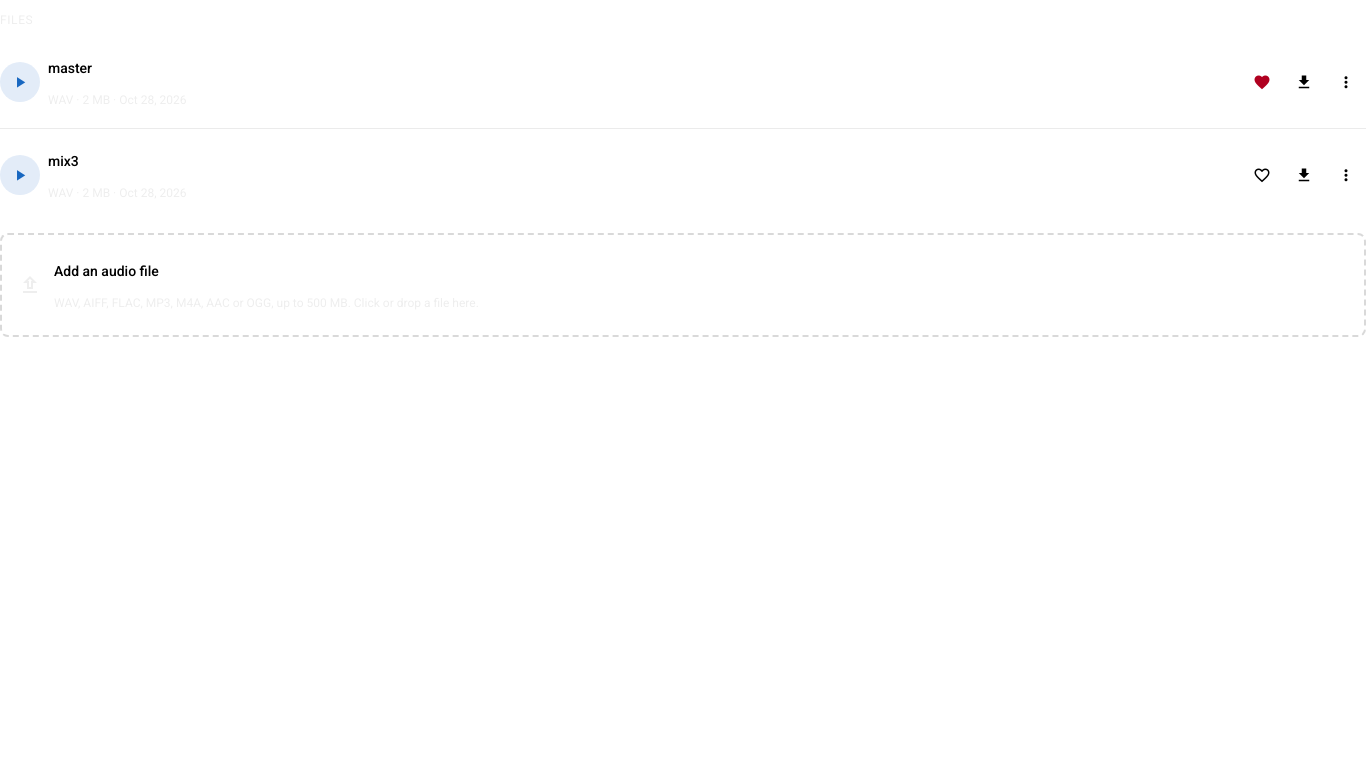
Test case: SongFilesSection › delete › asks first, then removes the file and reports the change
The image size is (1366, 768).
Click the button named "Actions for mix3": (1346, 175) [1326,155,1365,195]
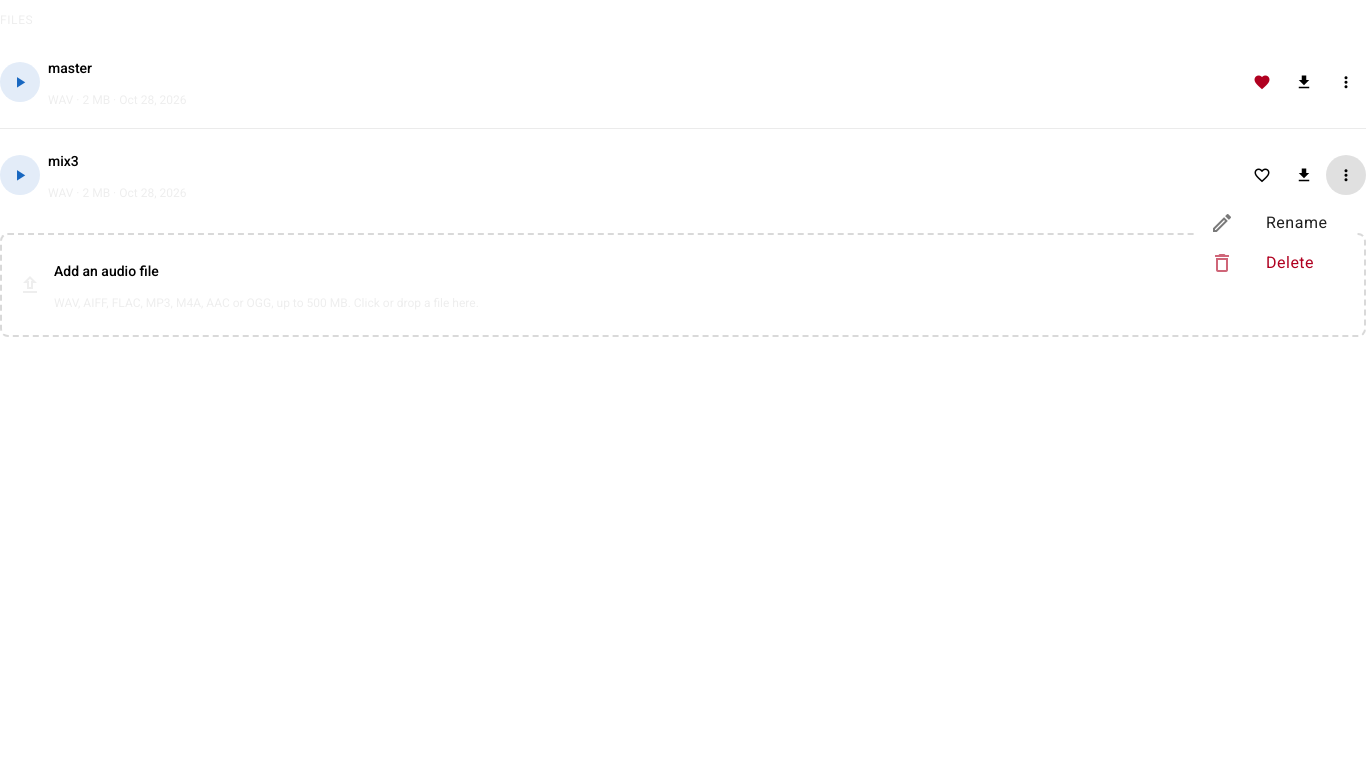
Click the list item "Delete": (1290, 262) [1210,251,1314,275]
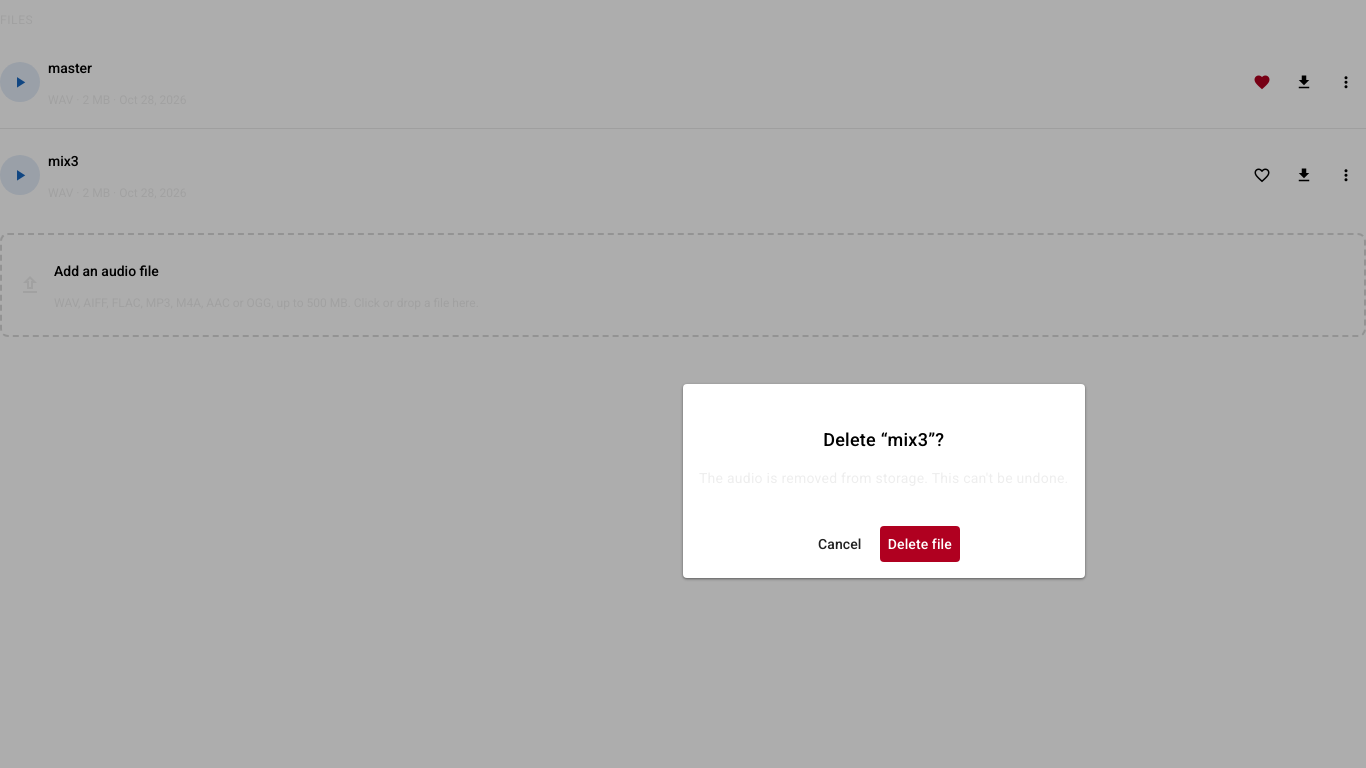
Now the text "Delete “mix3”?" is shown, box [823,429,944,450]
Click the button "Delete file": (920, 544) [880,526,960,562]
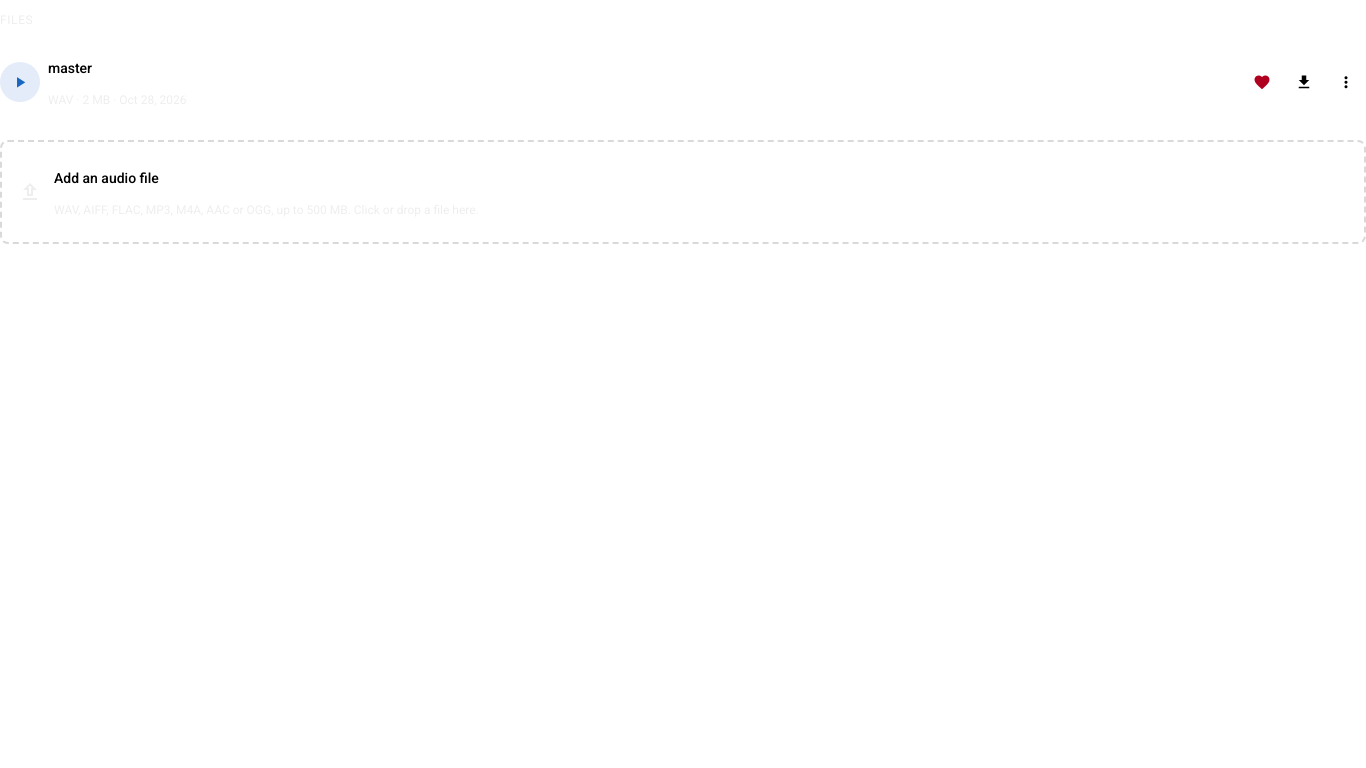
Now the number of elements with class "file-row" is 1, box [0,60,1365,107]
